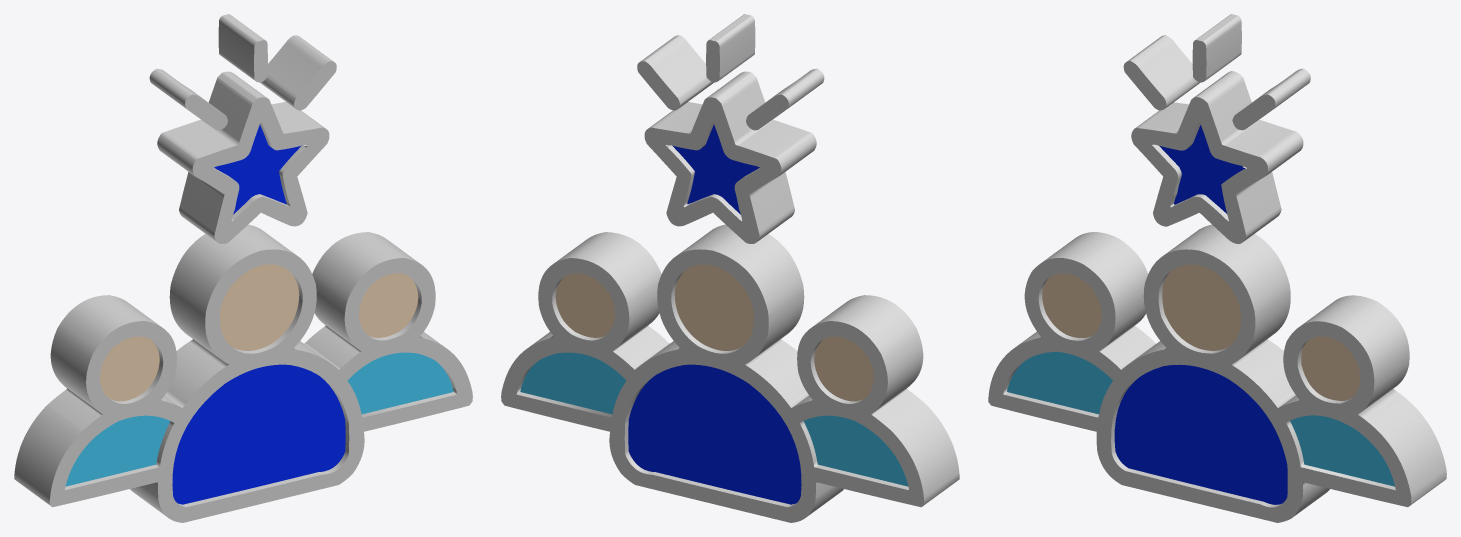
The model's file is team.fbx.
The picture shows the model from 3 angles, left to right: view 1: azimuth 30°, elevation 25°; view 2: azimuth 150°, elevation 25°; view 3: azimuth 330°, elevation 25°; orthographic projection.
Visible parts, largest first — view 1: @给力团队; view 2: @给力团队; view 3: @给力团队.
Part boxes in pixels (x1,y1,x2,y2): @给力团队: (14, 14, 472, 522); @给力团队: (501, 14, 959, 522); @给力团队: (988, 14, 1446, 522).
Size of the model in its own units: 71.6 by 74.88 by 10.37.
